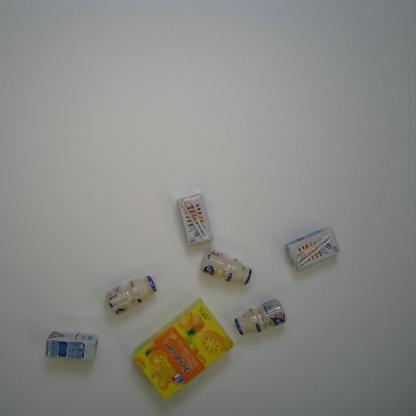Dessert: (132, 298, 235, 402)
Milk: (283, 225, 341, 272), (105, 274, 158, 316), (176, 193, 214, 246), (199, 248, 252, 286), (234, 298, 287, 336), (44, 330, 99, 361)
